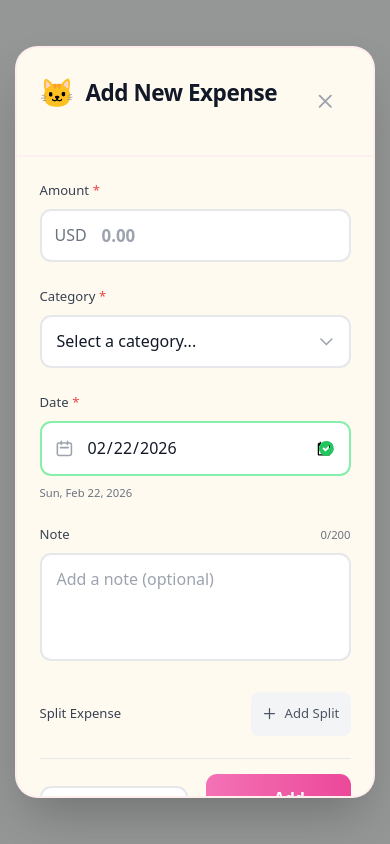
Test case: ExpenseFormModal › Error Handling › should reset error when modal closes
This screenshot has width=390, height=844.
# Fill and submit form to trigger error
Type "50" into the field named "amount" at (195, 236), box [40,209,350,262]
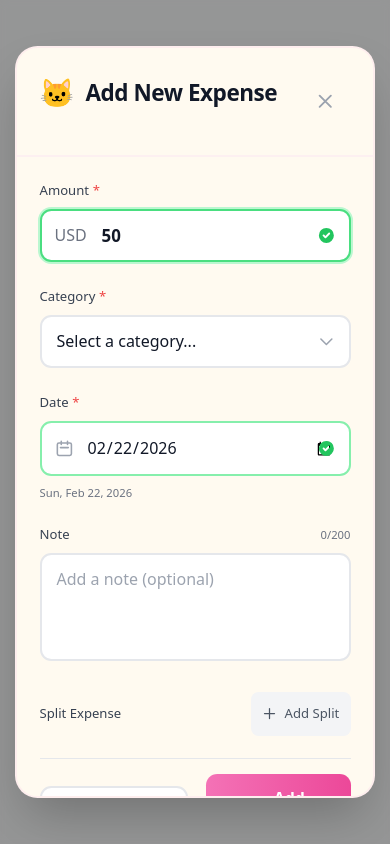
Select "🍜 Food" in the dropdown named "category" at (195, 342), box [40,315,350,368]
(page scrolled)
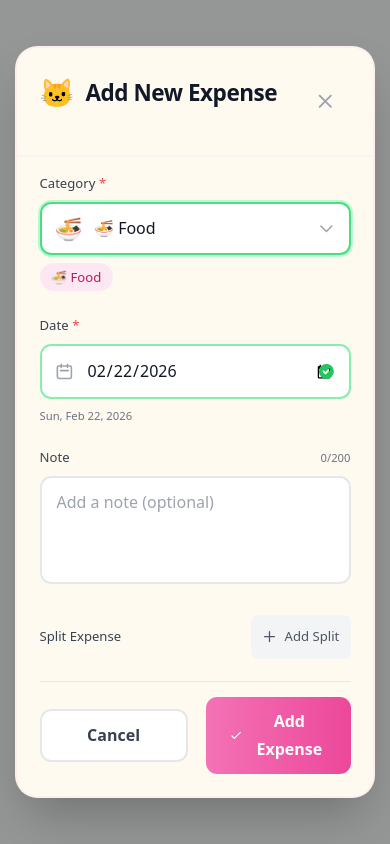
Click the button "Add Expense" at (278, 736), box [206,697,350,774]
(page scrolled)
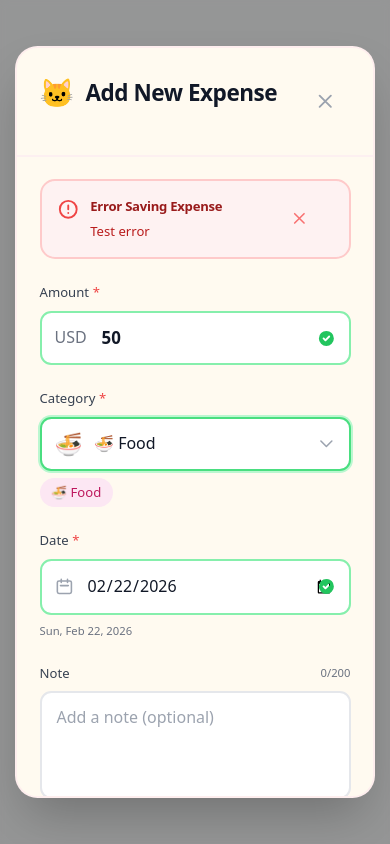
Expected: the heading "Error Saving Expense" is shown, [90,197,222,215]
